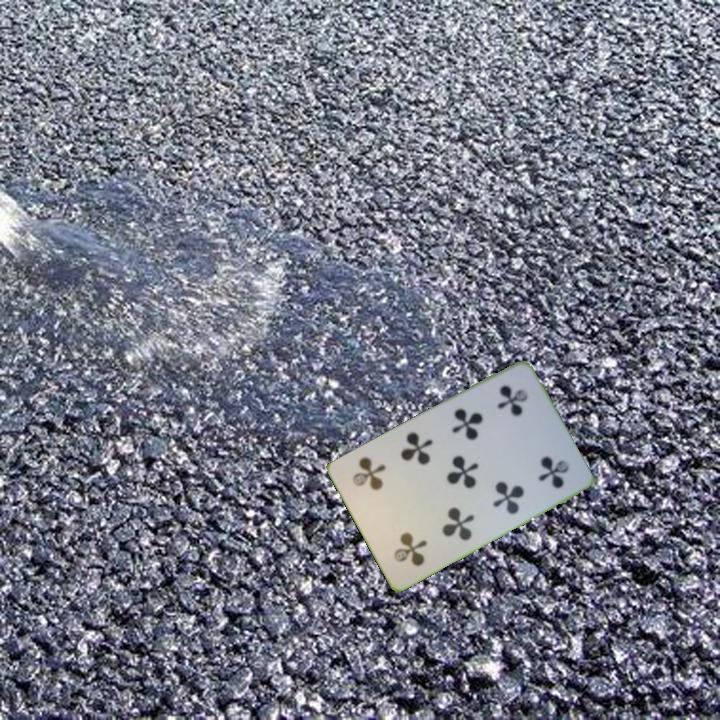c_9.png: (367, 496, 448, 581), (472, 369, 553, 453)
